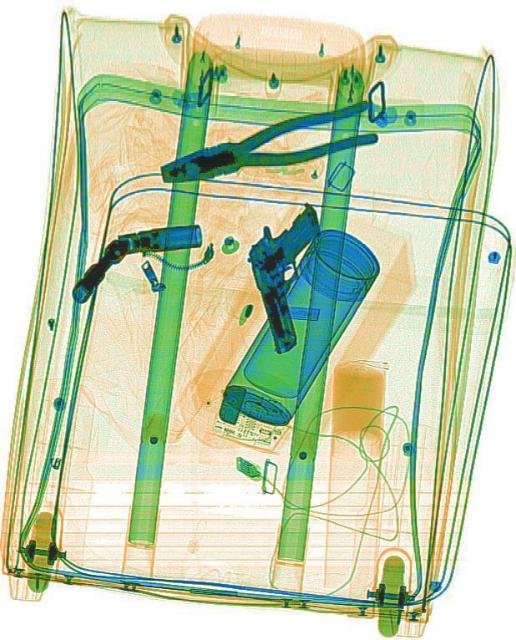Gun: (238, 201, 344, 355)
Pliers: (154, 97, 376, 197)
